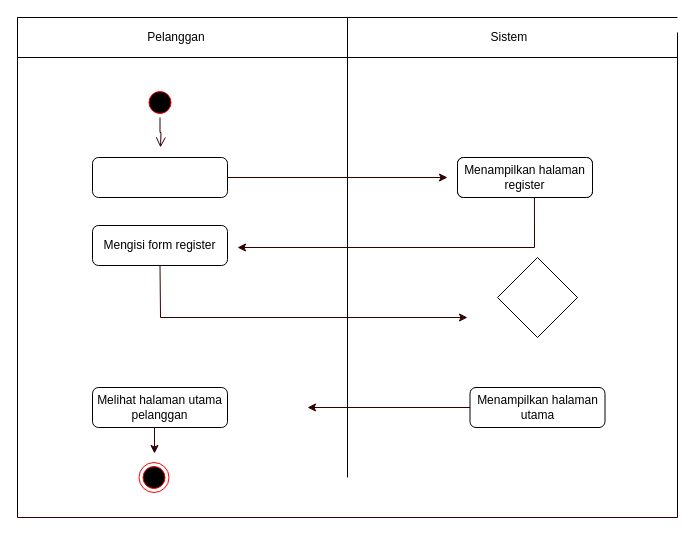
The diagram is 696 pixels wide and 536 high, and some of its shapes have lost their labels. Here are the shapes that lost their labels. From the top down, the centre of each, then its label:
At (x=160, y=177): "Menuju halaman register".
At (x=537, y=297): "Mengecek akun".
